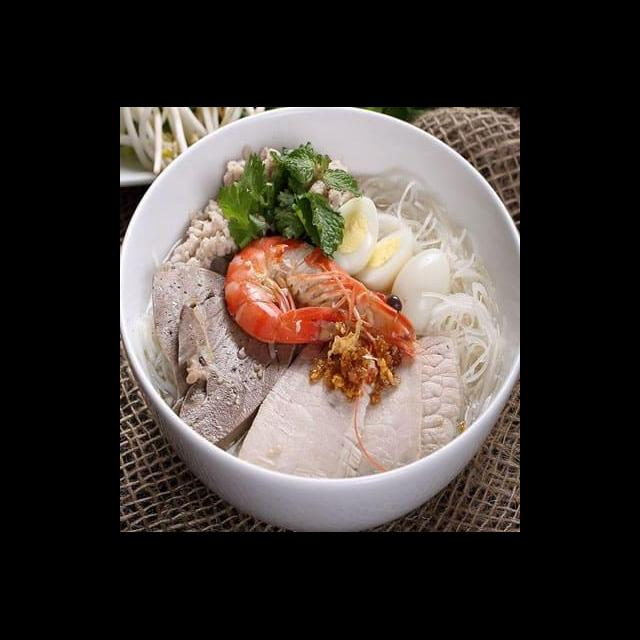banh hu tieu: (417, 286, 510, 439), (361, 172, 456, 252)
hu tieu: (120, 138, 520, 532)
thit bam: (218, 138, 355, 222), (165, 194, 272, 278)
thit heo: (234, 316, 388, 489), (338, 334, 428, 484), (391, 328, 469, 466)
tom: (221, 232, 420, 366)
trung: (385, 245, 455, 338), (318, 192, 382, 282), (351, 224, 418, 294)
